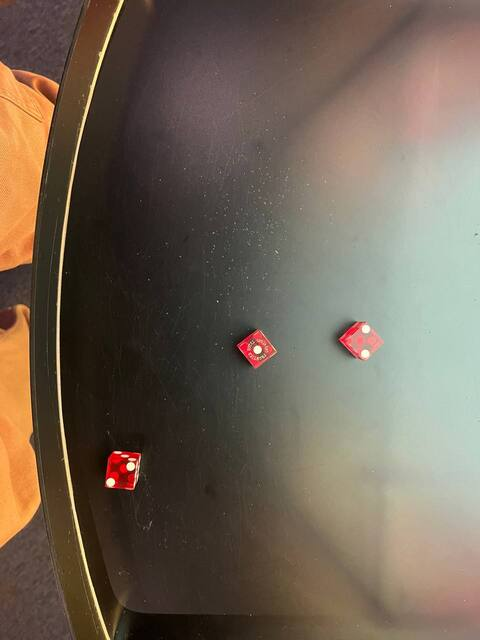one: (237, 327, 279, 371)
two: (340, 320, 386, 364), (100, 458, 139, 495)
